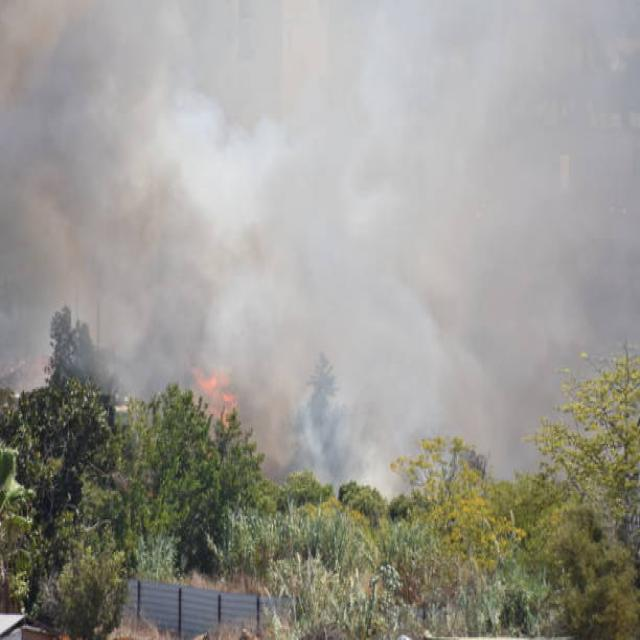Fire: (192, 368, 248, 430)
